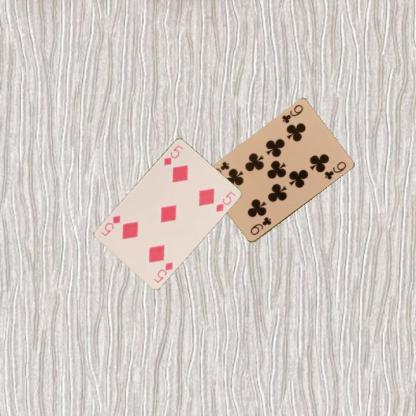5d: (151, 259, 174, 284), (162, 142, 184, 167)
9c: (279, 102, 305, 125), (247, 214, 273, 236)
